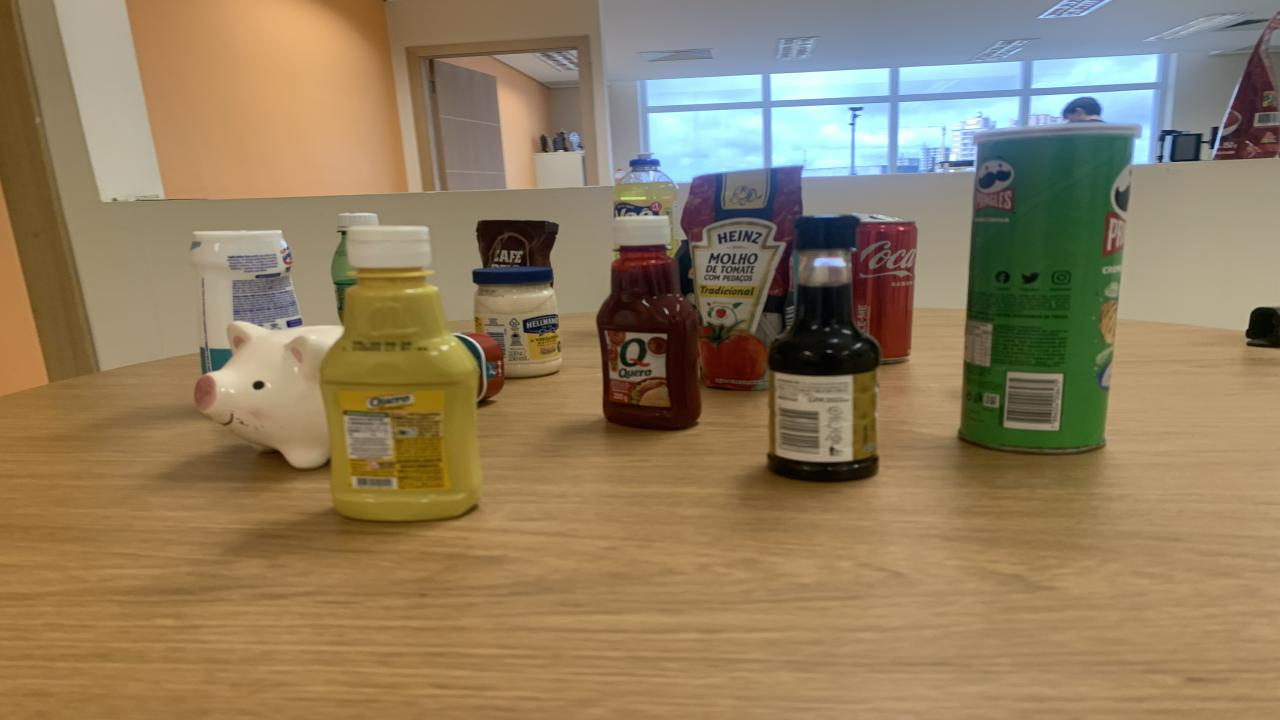Cleaner-Cleanup_Items: (190, 231, 302, 373)
Coffee-Pantry_Items: (475, 219, 558, 268)
Coke-Drinks: (852, 214, 918, 364)
Detergent-Cleanup_Items: (612, 158, 680, 257)
English_Sauce-Pantry_Items: (768, 216, 880, 482)
Guarana-Drinks: (330, 212, 378, 321)
Ketchup-Pantry_Items: (598, 216, 702, 429)
Mayonnaise-Pantry_Items: (472, 264, 562, 377)
Mustard-Pantry_Items: (320, 225, 482, 521)
Pig_Safe-Miscellaneous: (195, 321, 342, 469)
Pringles-Snacks: (960, 122, 1140, 452)
Tomato_Sauce-Pantry_Items: (680, 167, 802, 390)
Tuna_Can-Pantry_Items: (452, 332, 505, 401)
